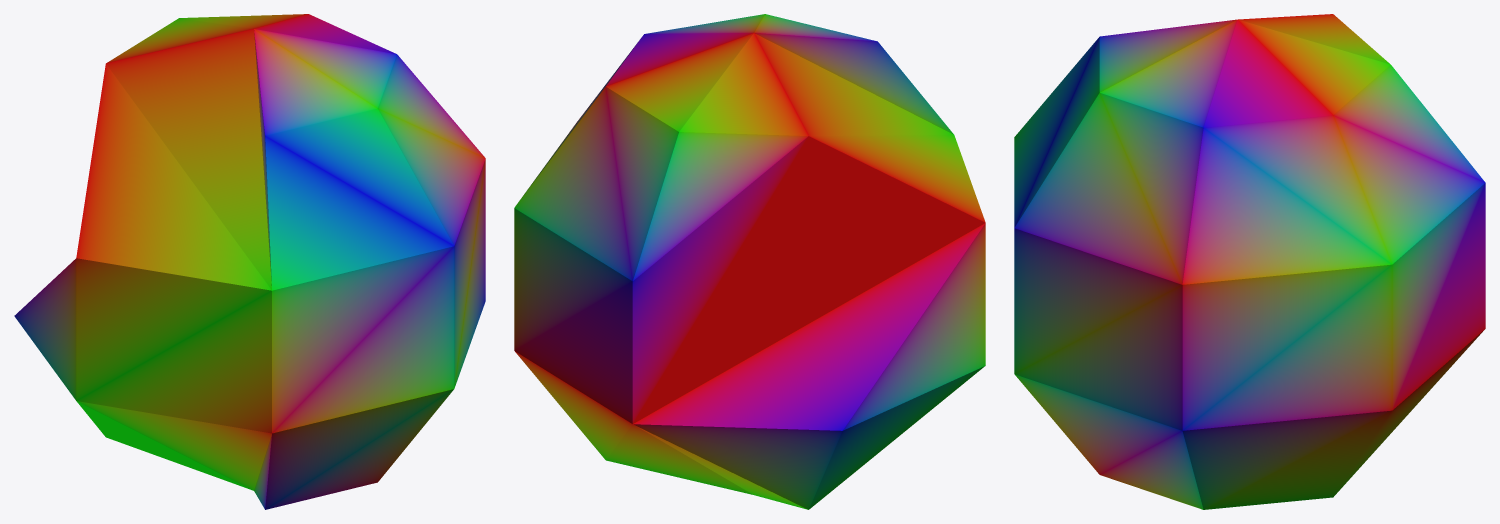
The model's file is all_16.obj.
3 views of the same model, side by side, from view 1: azimuth 30°, elevation 25°; view 2: azimuth 150°, elevation 25°; view 3: azimuth 270°, elevation 25° (orthographic). The views are drawn at different scales.
Bounding box in the file's own units: 1.85 × 2 × 1.81.
